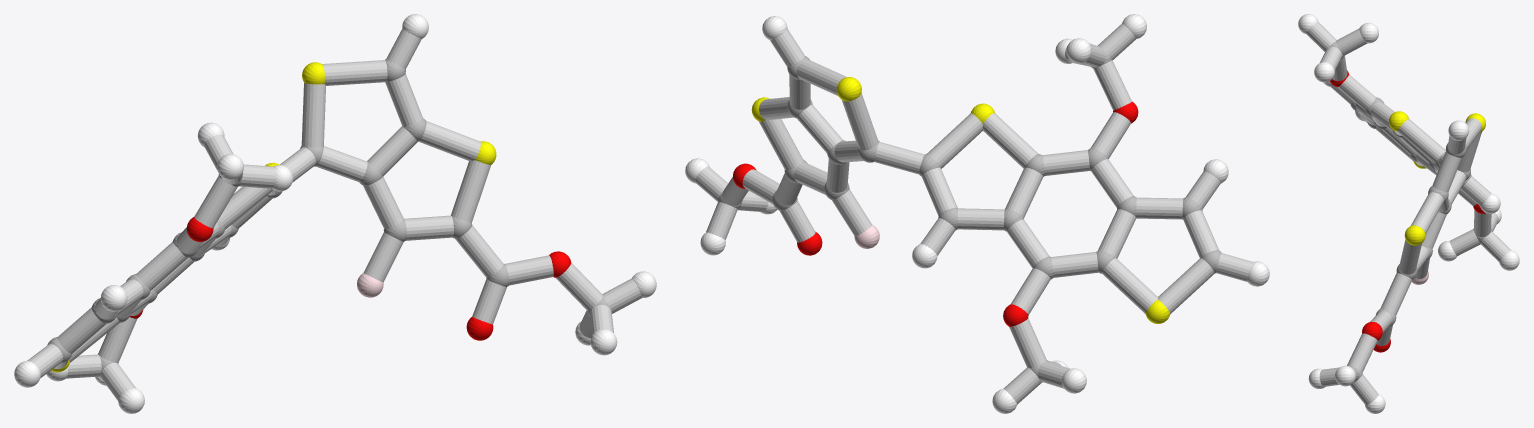
File: color.glb
The picture shows the model from 3 angles, left to right: view 1: azimuth 30°, elevation 25°; view 2: azimuth 150°, elevation 25°; view 3: azimuth 270°, elevation 25°; orthographic projection. The views are drawn at different scales.
Visible parts, largest first — view 1: grp15205, grp8689, grp1, grp13395, grp7241; view 2: grp15205, grp8689, grp1, grp13395, grp7241; view 3: grp15205, grp8689, grp1, grp7241, grp13395.
Part boxes in pixels (x1,y1,x2,y2): grp15205: [27, 29, 642, 400]; grp8689: [14, 14, 656, 413]; grp1: [47, 59, 609, 377]; grp13395: [130, 217, 571, 340]; grp7241: [51, 62, 496, 372]; grp15205: [695, 23, 1252, 404]; grp8689: [685, 14, 1269, 413]; grp1: [718, 45, 1221, 382]; grp13395: [733, 101, 1138, 326]; grp7241: [751, 77, 1170, 323]; grp15205: [1306, 22, 1510, 404]; grp8689: [1298, 14, 1519, 413]; grp1: [1329, 41, 1492, 378]; grp7241: [1388, 111, 1485, 245]; grp13395: [1330, 70, 1485, 352].
Bounding box in the file's own units: 16.15 × 8.04 × 6.4.
